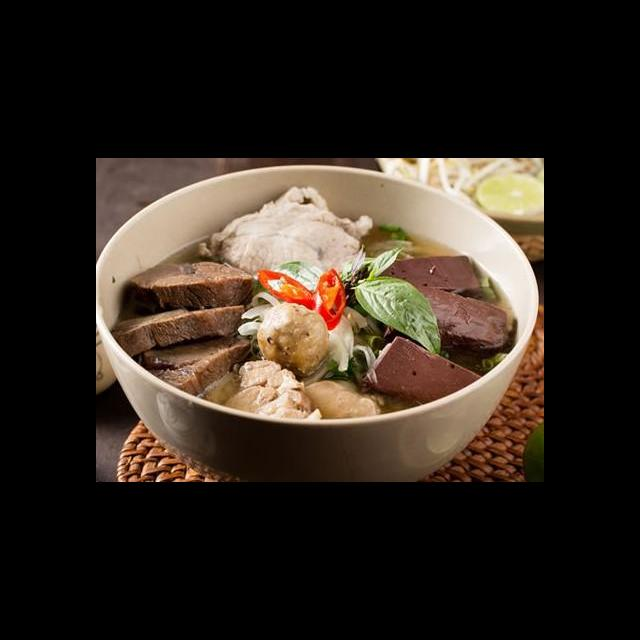thit bo: (108, 299, 252, 365), (205, 353, 325, 430), (135, 328, 256, 401), (120, 256, 256, 320)
thit heo: (195, 179, 379, 305)
